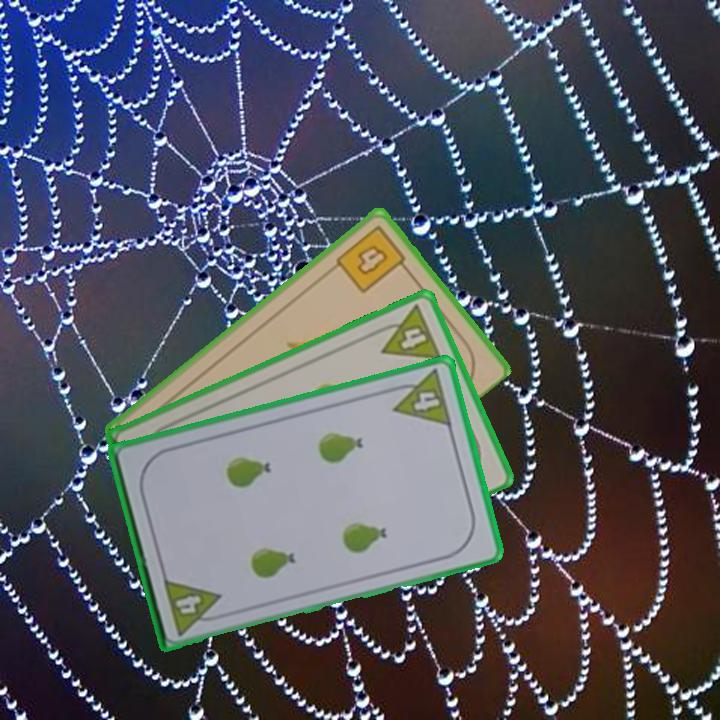4b: (332, 221, 413, 297)
4p: (369, 301, 445, 363), (385, 366, 455, 430), (160, 574, 228, 638)
